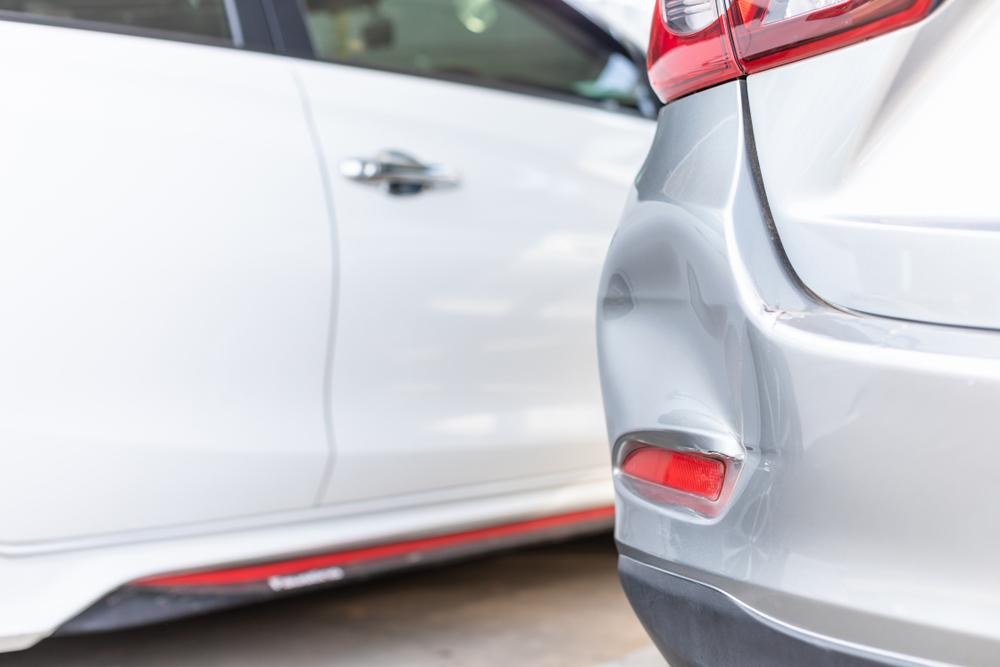dent: (600, 217, 772, 458)
